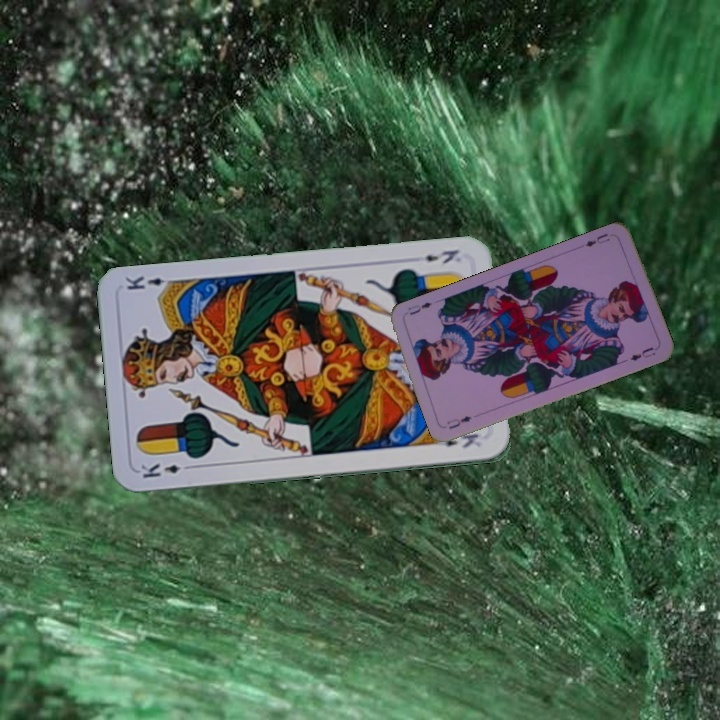EK: (137, 459, 196, 481), (420, 245, 461, 267)
EU: (581, 229, 612, 249), (443, 412, 474, 432)
